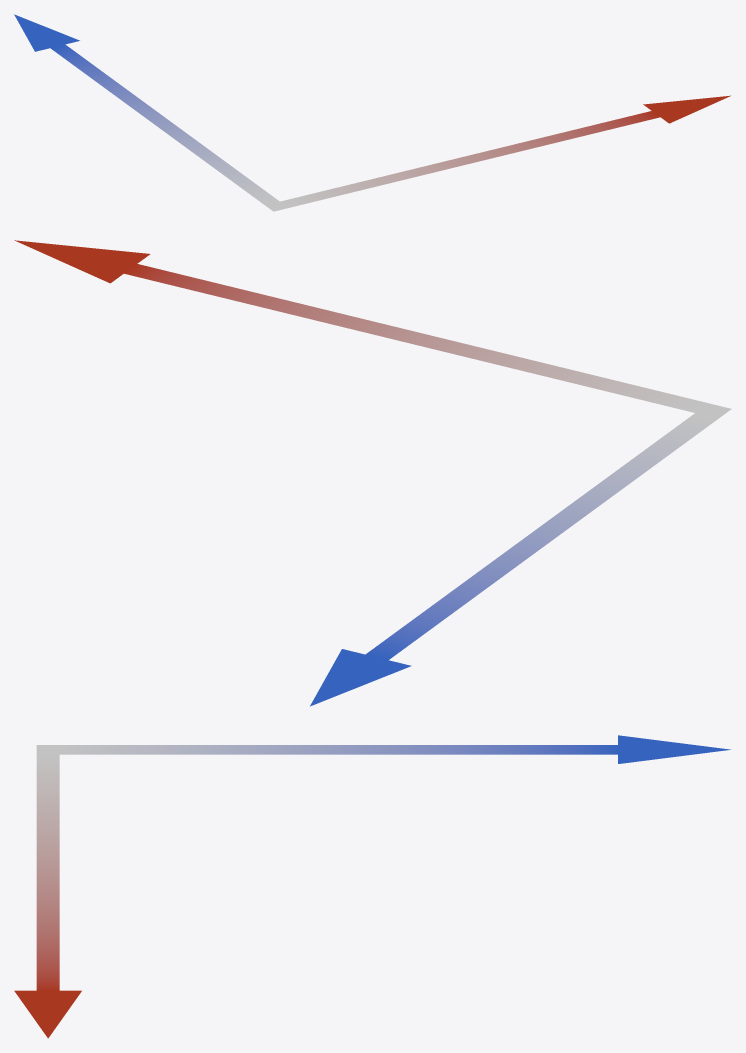
Rendered from AxisGizmos.fbx.
3 views of the same model, one above another, from view 1: azimuth 30°, elevation 25°; view 2: azimuth 150°, elevation 25°; view 3: azimuth 270°, elevation 25° (orthographic). The views are drawn at different scales.
Parts seen in each view (by area): view 1: AxisGizmos; view 2: AxisGizmos; view 3: AxisGizmos.
Boxes of the visible parts, bbox=[...] form: AxisGizmos: bbox=[14, 14, 730, 211]; AxisGizmos: bbox=[14, 240, 731, 706]; AxisGizmos: bbox=[14, 735, 730, 1038].
Size of the model in its own units: 189 by 0 by 189.
